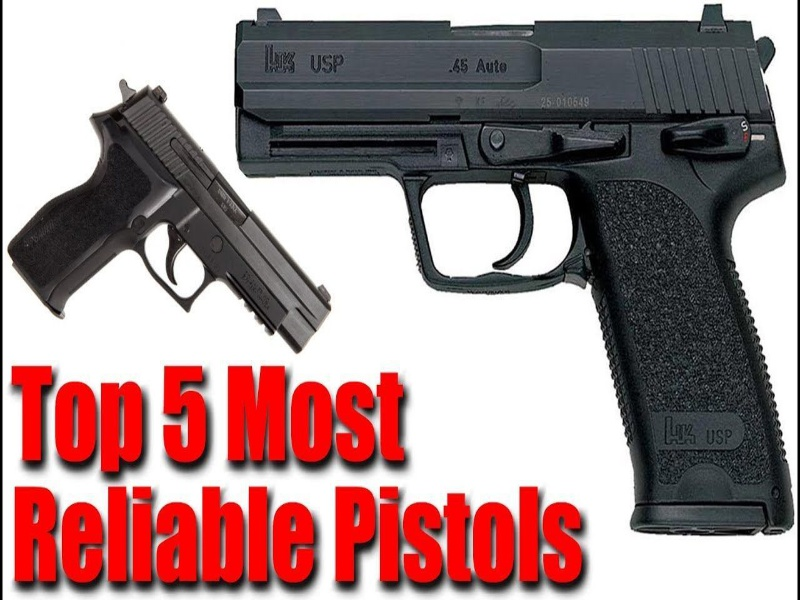gun: (235, 5, 798, 534), (9, 69, 351, 359)
